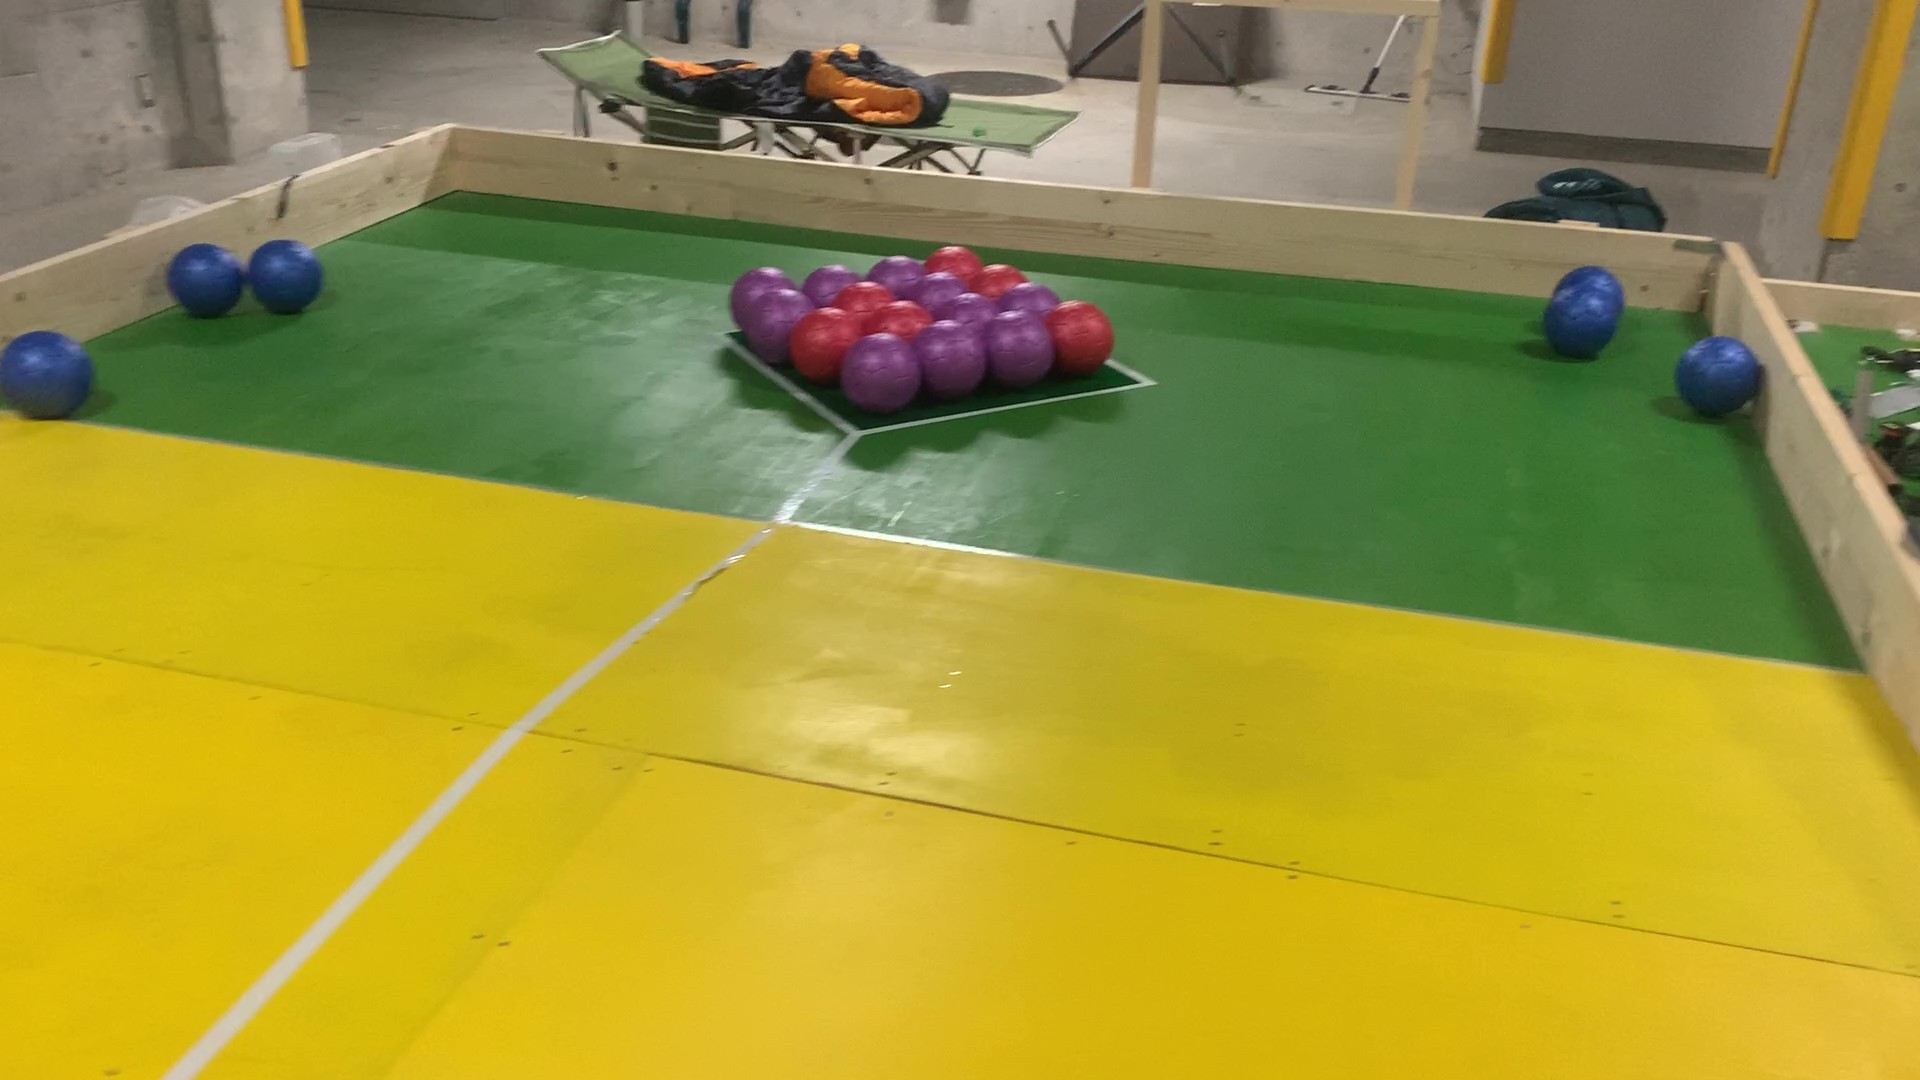blue: (9, 334, 82, 419), (175, 245, 240, 314), (1684, 347, 1750, 409), (252, 243, 310, 311), (1555, 294, 1606, 353), (1576, 265, 1611, 287)
purple: (856, 342, 910, 397), (996, 320, 1047, 373), (928, 334, 968, 390), (756, 302, 793, 361), (735, 268, 787, 291), (806, 266, 839, 299), (1011, 287, 1060, 309), (916, 274, 955, 299), (880, 253, 918, 277), (952, 301, 988, 324)
red: (1055, 306, 1108, 367), (802, 314, 849, 378), (927, 244, 978, 269), (876, 305, 922, 332), (848, 280, 884, 310), (976, 268, 1023, 287)
